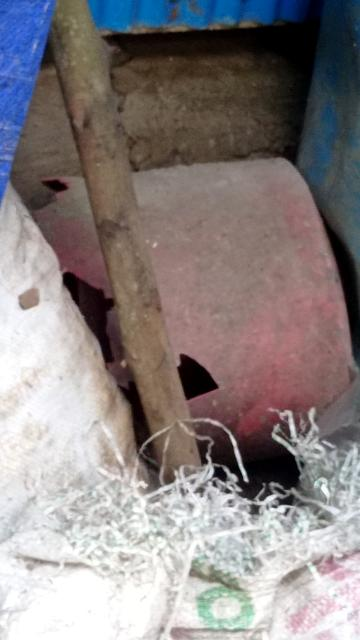hardplastic: (52, 137, 352, 450)
